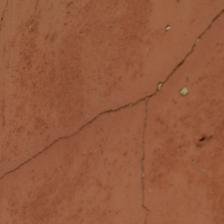Crack: (4, 11, 222, 180), (132, 98, 155, 210)
